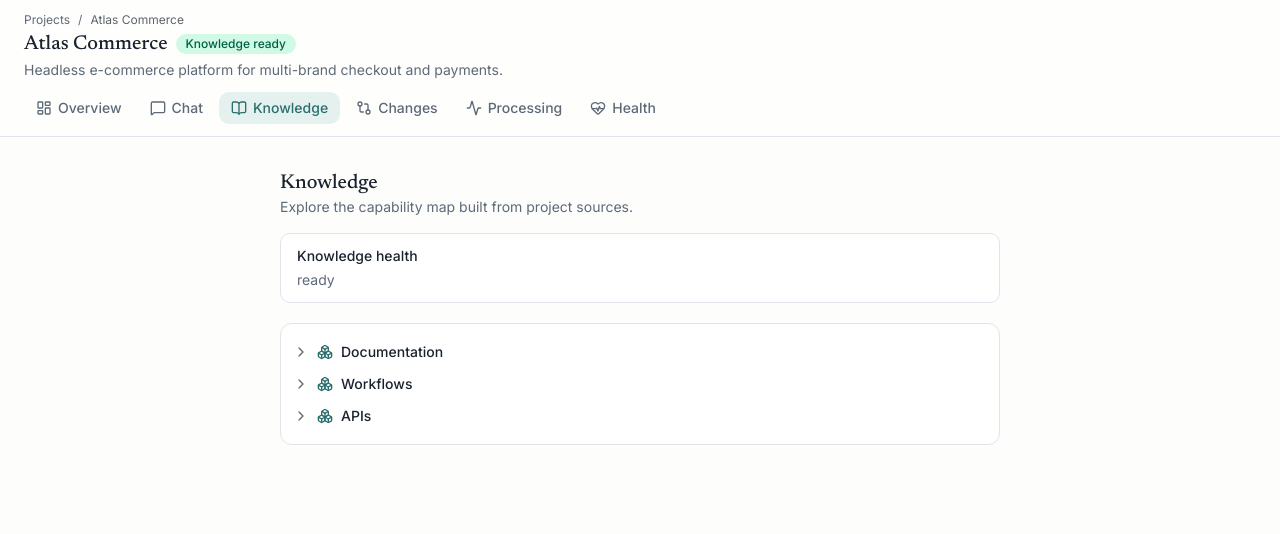
Test case: KnowledgeExplorer › shows empty facet copy and a facet error
This screenshot has width=1280, height=534.
expect the heading "Knowledge" is shown: met, box 280,173 -> 378,193
Click the button named "Documentation".
click(301, 352)  # box 293,344 -> 309,360
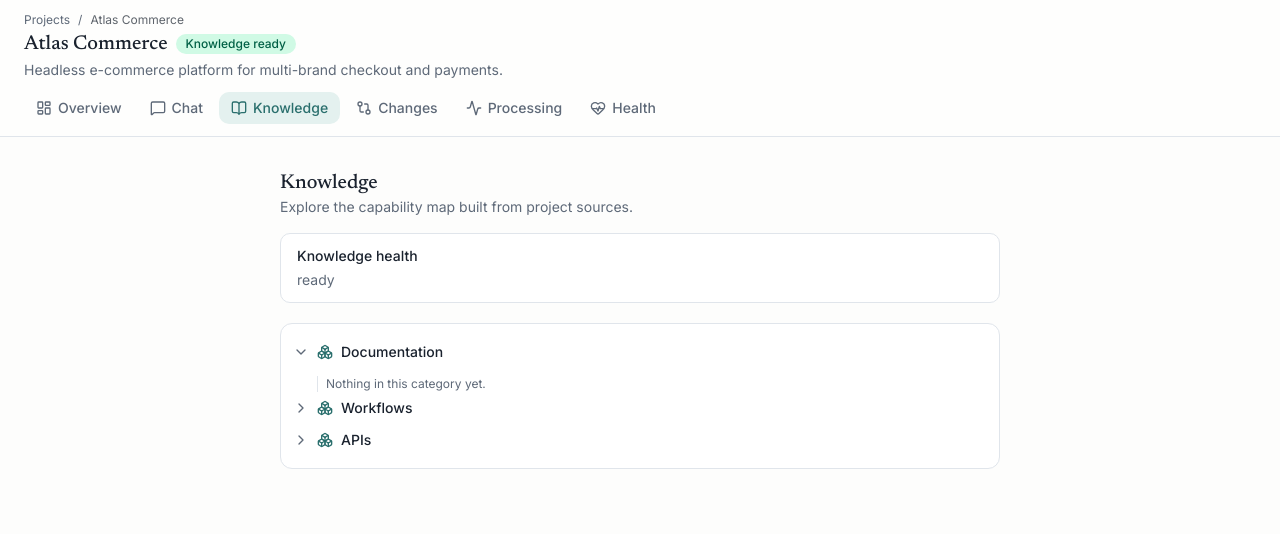
expect the text "Nothing in this category yet." is shown: met, box 326,376 -> 486,391
Click the button named "Workflows".
click(301, 408)  # box 293,400 -> 309,416
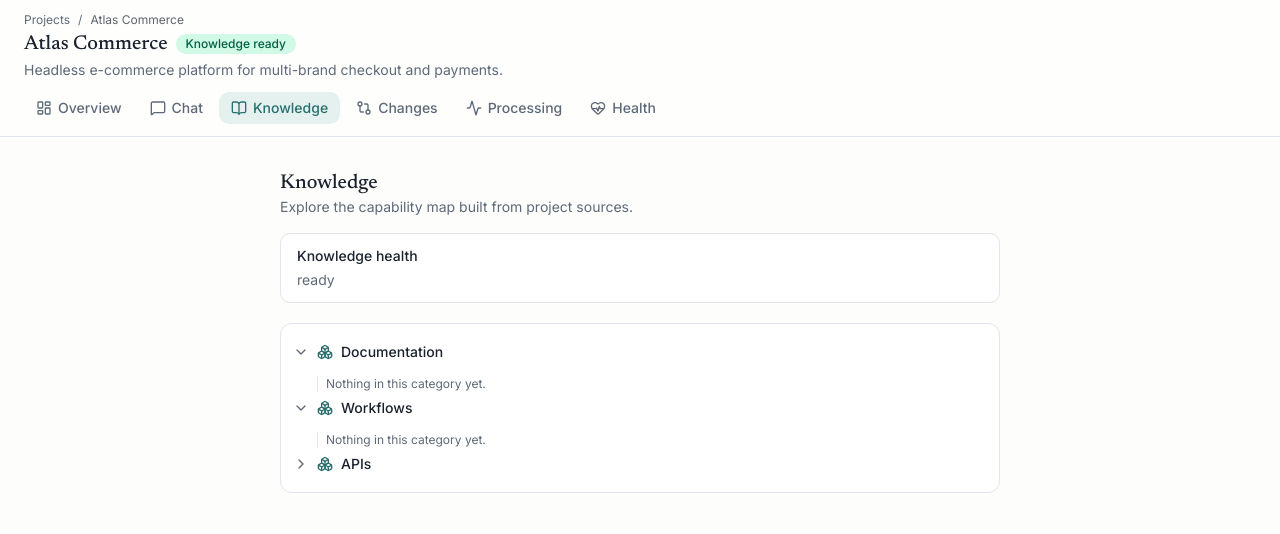
expect the text "Nothing in this category yet." is shown 2 times: met, box 326,376 -> 486,391; 326,432 -> 486,447
Click the button named "APIs".
click(301, 464)  # box 293,456 -> 309,472
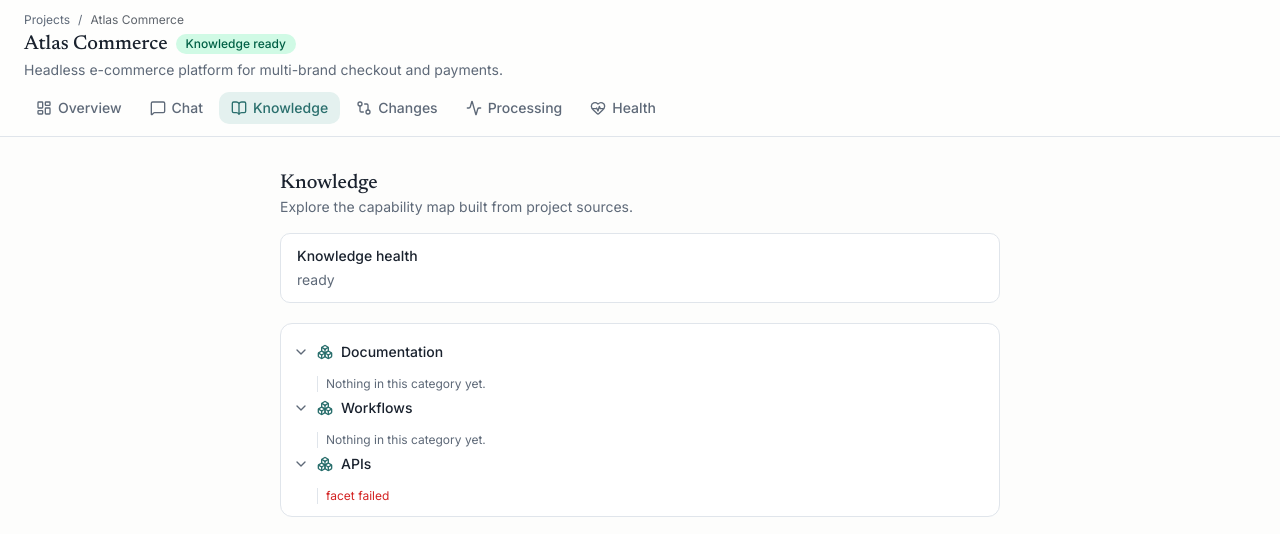
expect the text "facet failed" is shown: met, box 326,488 -> 389,503
